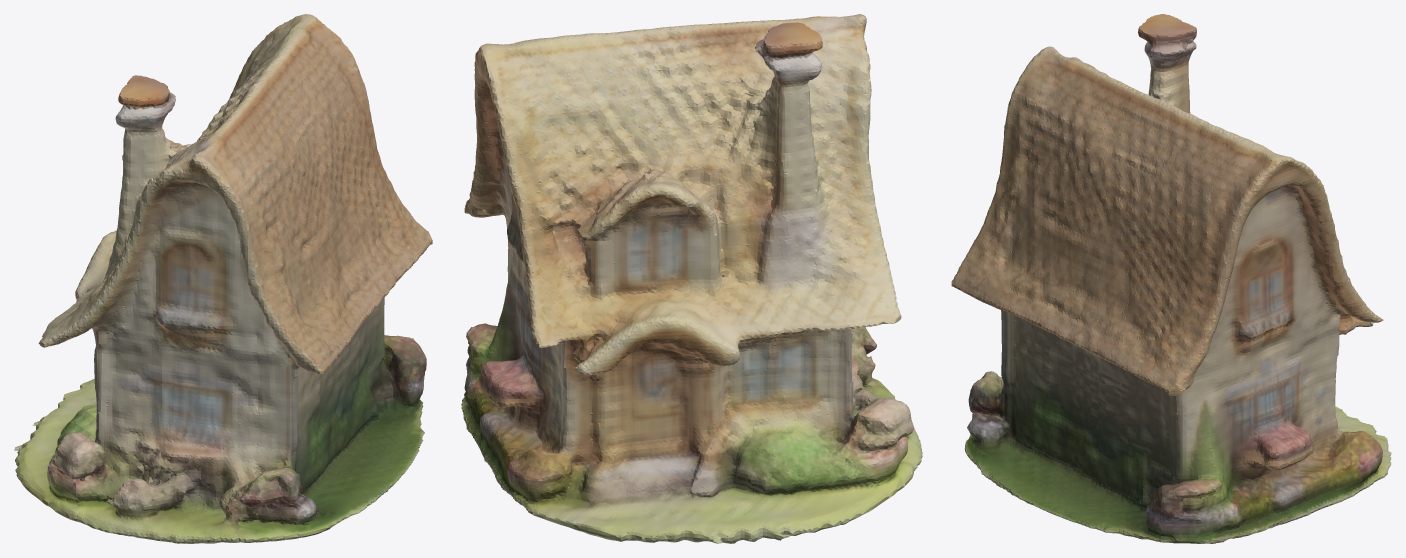
The model's file is EoyVBHywtpBz.png.glb.
3 views of the same model, side by side, from view 1: azimuth 30°, elevation 25°; view 2: azimuth 150°, elevation 25°; view 3: azimuth 270°, elevation 25° (orthographic). The views are drawn at different scales.
Parts seen in each view (by area): view 1: world; view 2: world; view 3: world.
Boxes of the visible parts, left/top/right/bottom form: world: left=14, top=14, right=432, bottom=543; world: left=461, top=14, right=922, bottom=543; world: left=951, top=14, right=1391, bottom=543.
Bounding box in the file's own units: 1.98 × 1.94 × 1.92.
